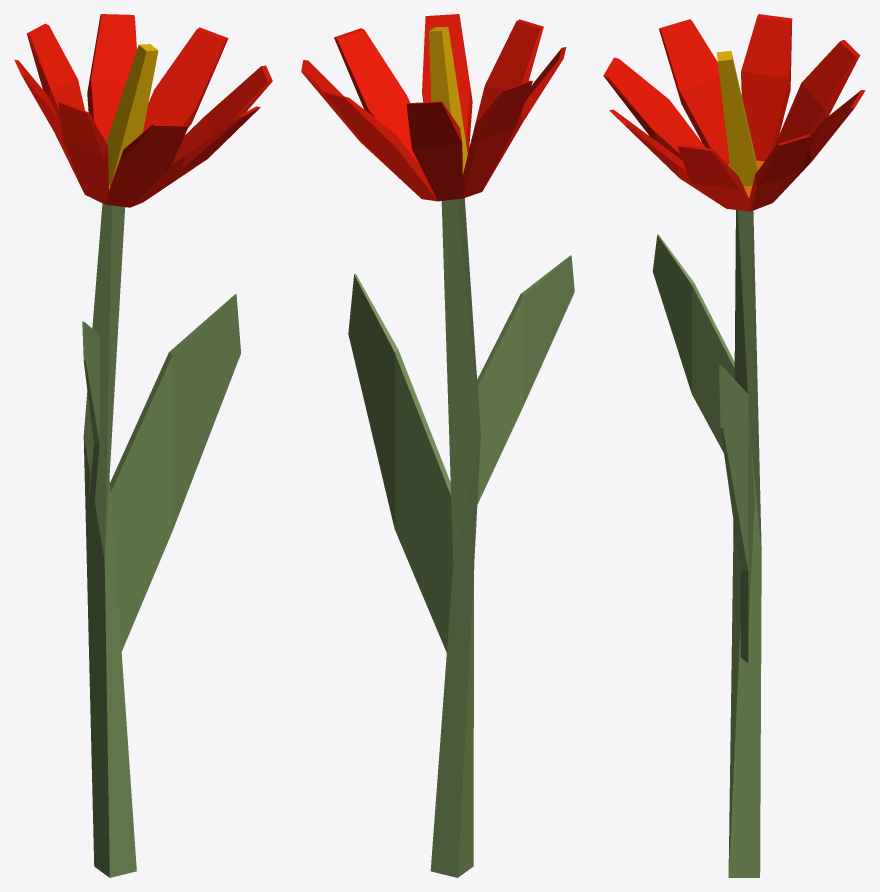
The model's file is Flower 3_1.fbx.
3 views of the same model, side by side, from view 1: azimuth 30°, elevation 25°; view 2: azimuth 150°, elevation 25°; view 3: azimuth 270°, elevation 25° (orthographic).
Visible parts, largest first — view 1: Flower 3_1; view 2: Flower 3_1; view 3: Flower 3_1.
Boxes of the visible parts, left/top/right/bottom form: Flower 3_1: left=14, top=14, right=272, bottom=877; Flower 3_1: left=301, top=14, right=574, bottom=877; Flower 3_1: left=603, top=14, right=865, bottom=877.
Bounding box in the file's own units: 0.1086 × 0.3863 × 0.1109.
